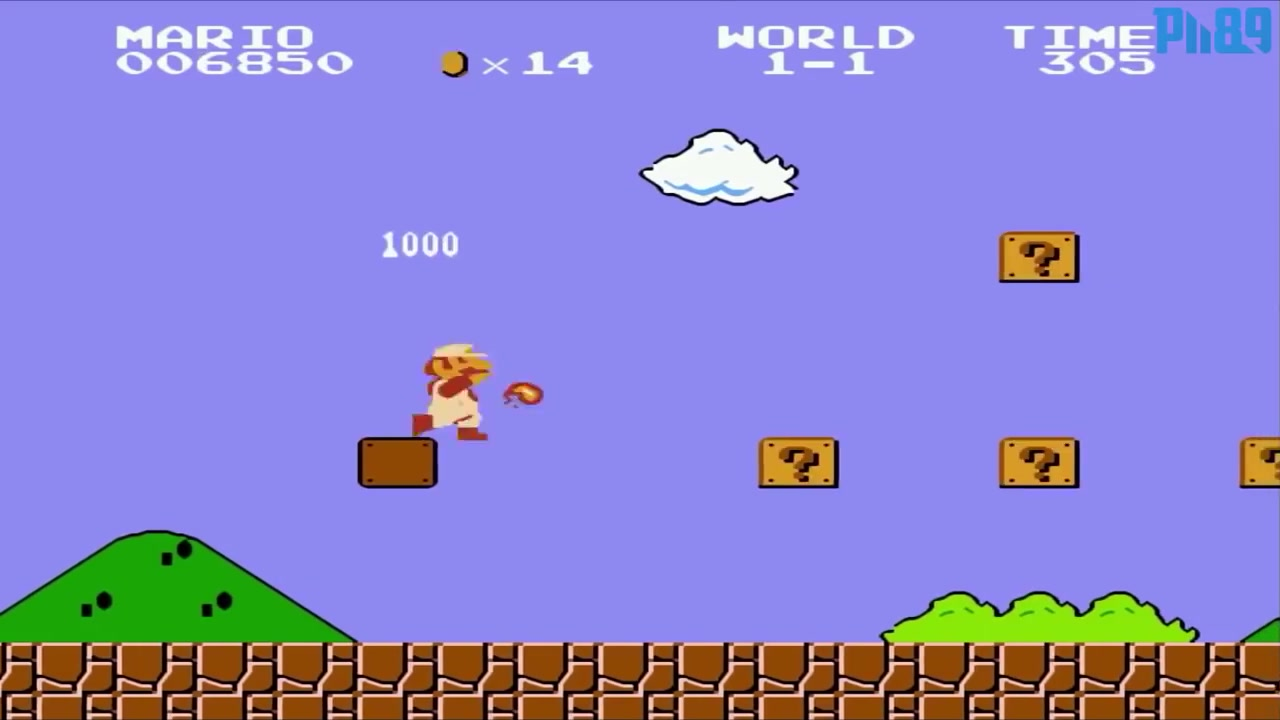mario: (398, 325, 501, 448)
